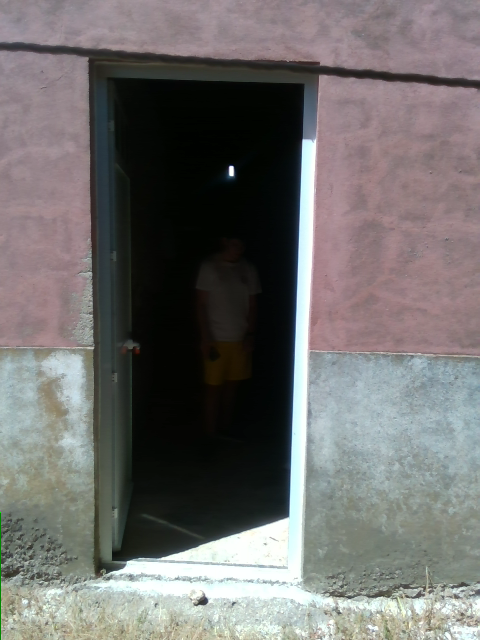open: (94, 55, 322, 582)
